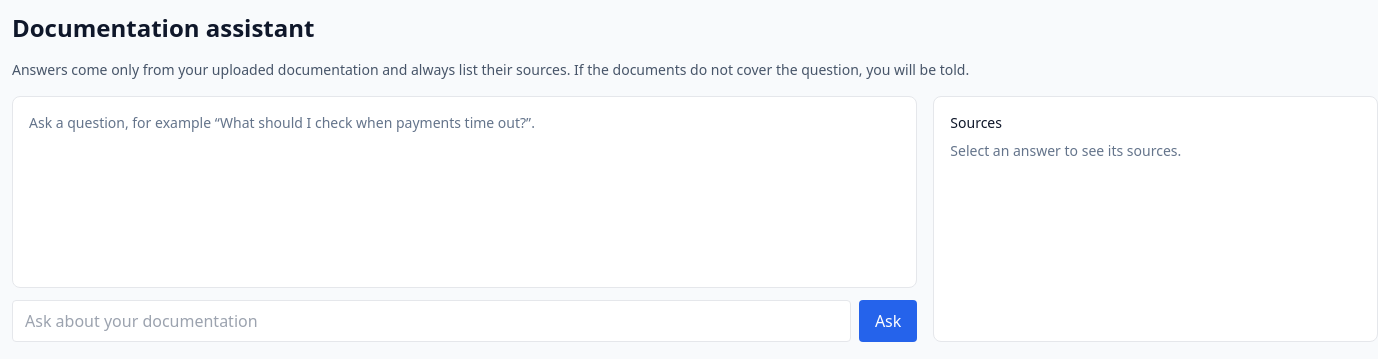
Scenario: AssistantPage › tells the user when the documentation is insufficient
The width and height of the screenshot is (1378, 359).
Type "bake bread?" into the field named "Question" at (431, 321), box [12,300,851,342]
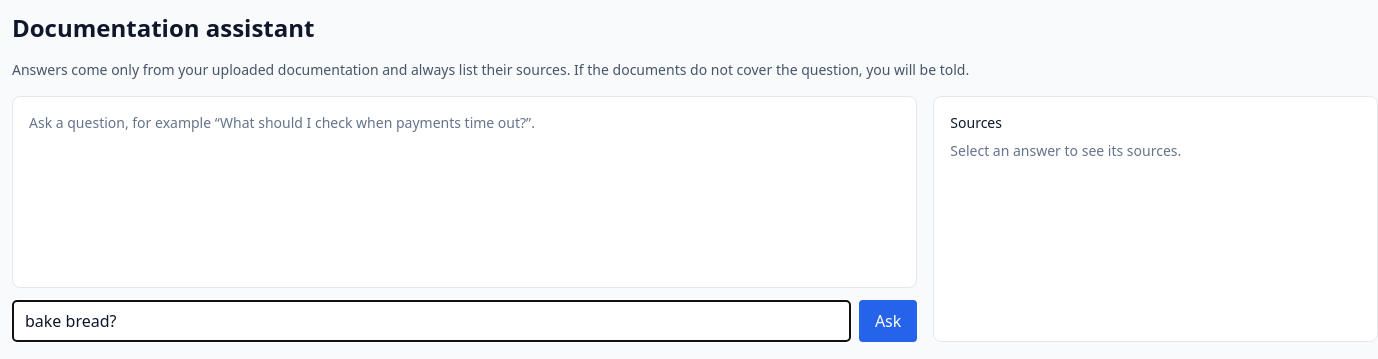
Click the button "Ask" at (888, 321), box [859,300,917,342]
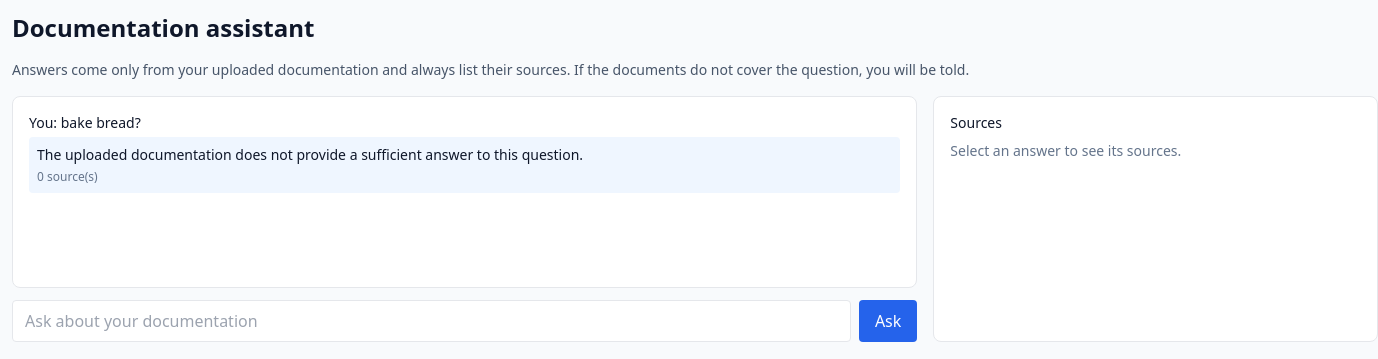
Now the text "does not provide a sufficient answer" is shown, box [37,145,583,164]
